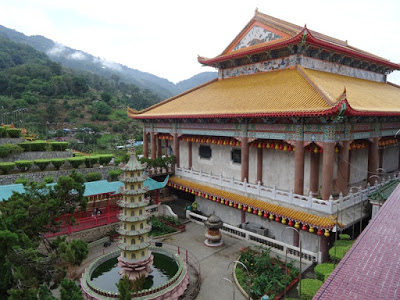Buddhist Temple: (145, 14, 391, 207)
